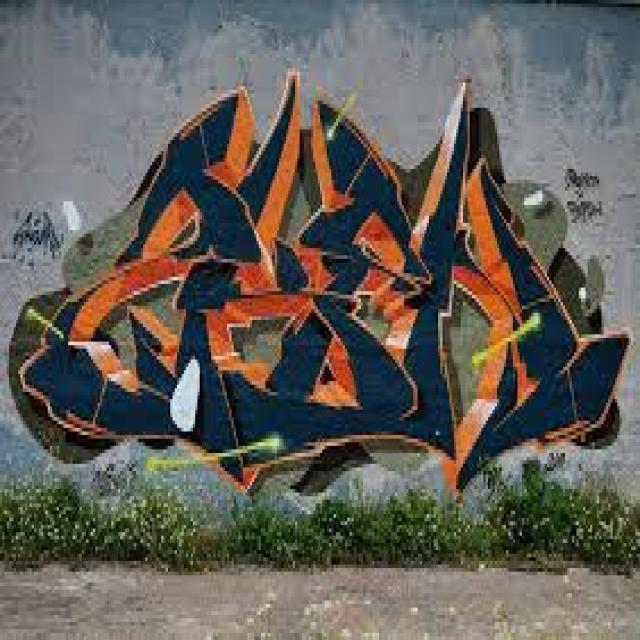-: (11, 63, 630, 504)
